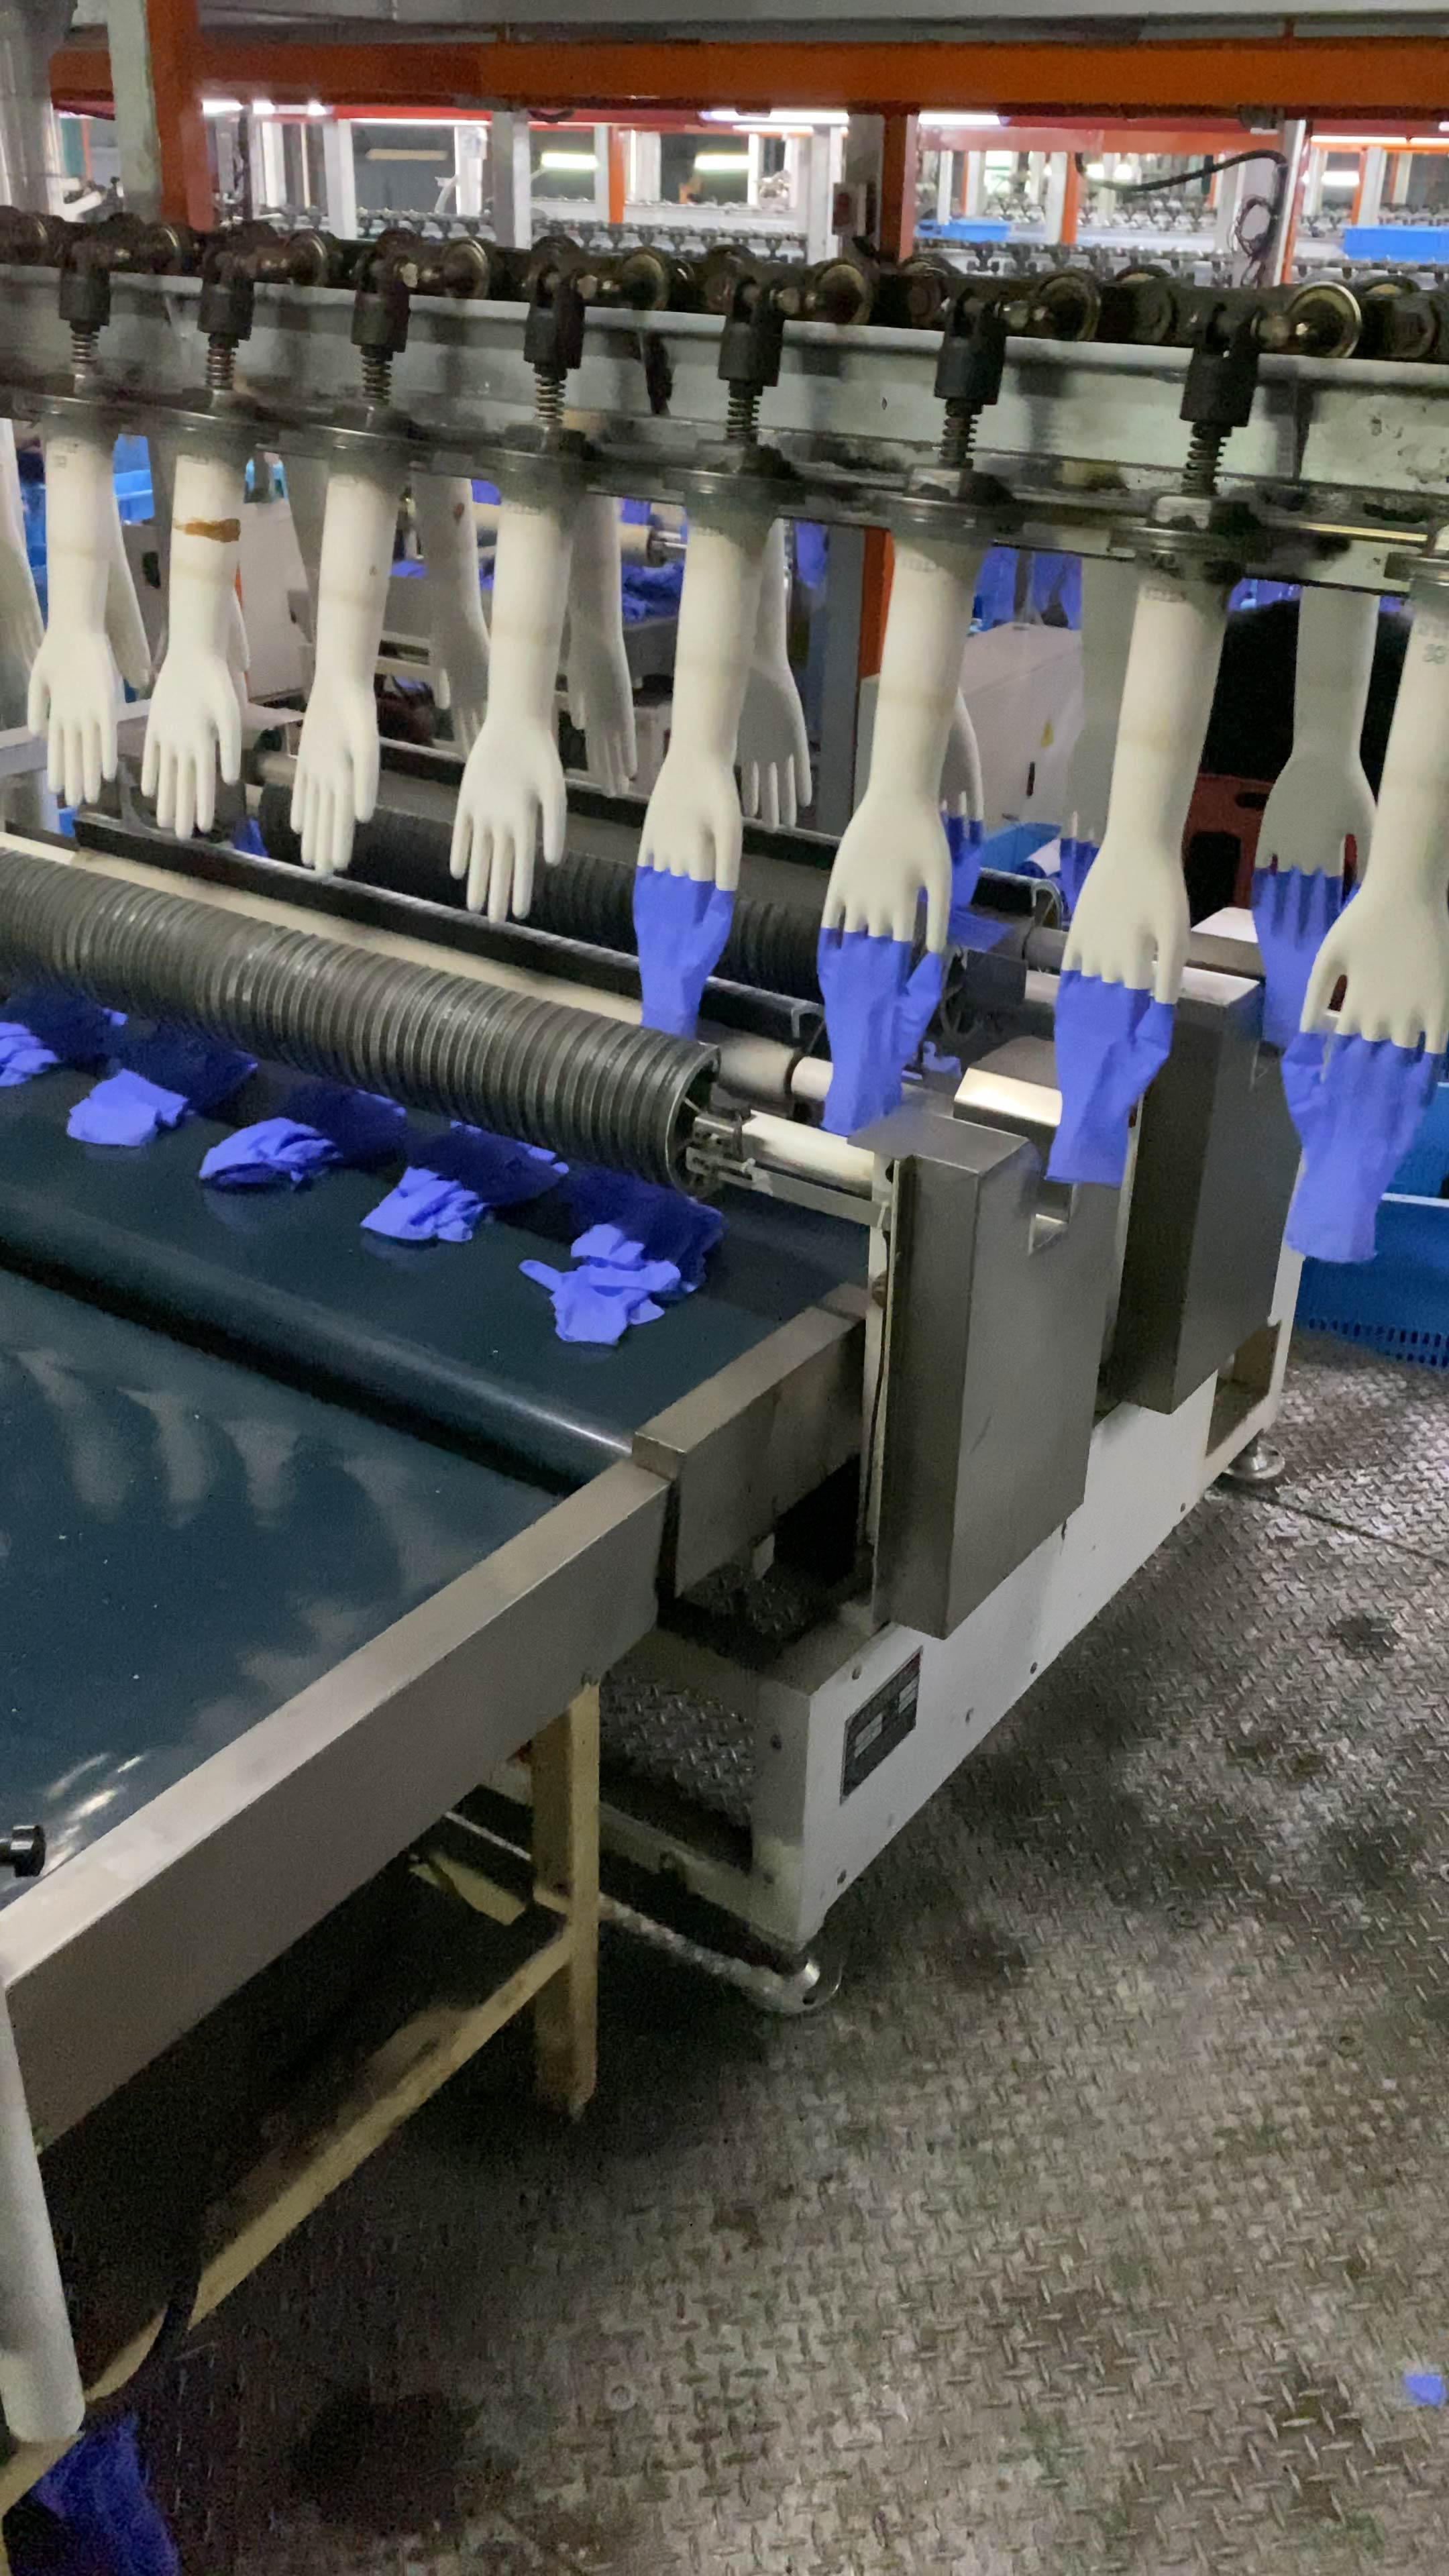glove: (1279, 1031, 1442, 1260), (518, 1175, 722, 1341), (1047, 971, 1173, 1184), (814, 929, 941, 1132), (357, 1118, 570, 1240), (202, 1079, 405, 1189), (67, 1023, 249, 1145), (1249, 869, 1361, 1044), (632, 867, 736, 1040), (0, 985, 126, 1083), (1058, 839, 1100, 915)
